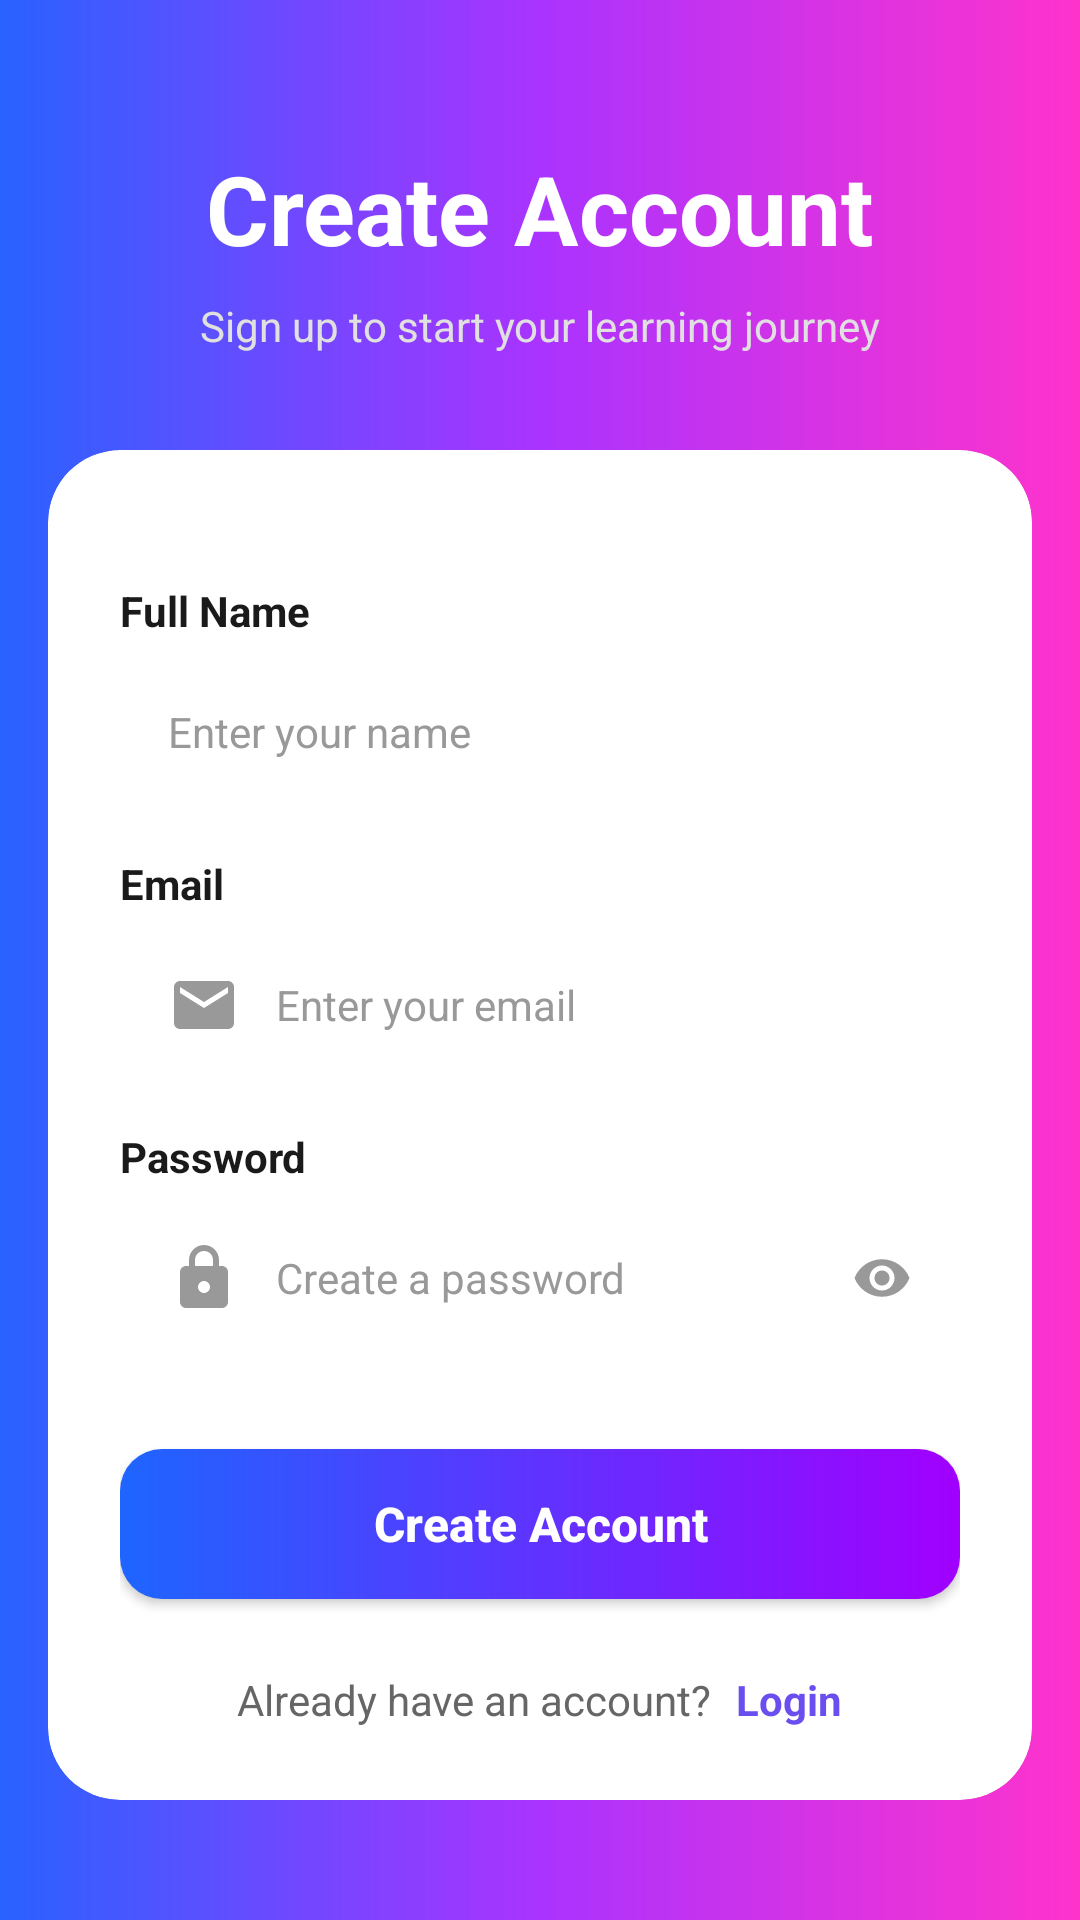

Where icons sit on this 1080x1920 app screen, as (x1=x1, y1=y1, x2=x2, y2=y2):
eye: (x1=854, y1=1259, x2=910, y2=1297)
